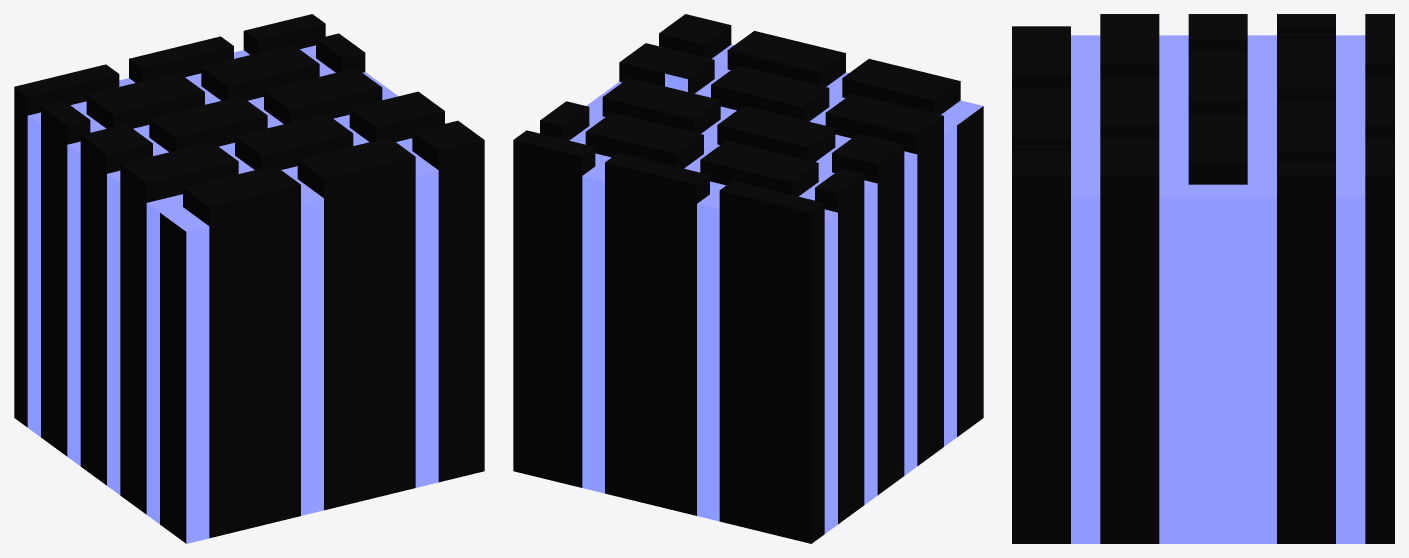
The model's file is BreakableBloc.fbx.
The picture shows the model from 3 angles, left to right: view 1: azimuth 30°, elevation 25°; view 2: azimuth 150°, elevation 25°; view 3: azimuth 270°, elevation 25°; orthographic projection. The views are drawn at different scales.
Visible parts, largest first — view 1: Cube.006; view 2: Cube.006; view 3: Cube.006.
Boxes of the visible parts, x1=… form: Cube.006: x1=14, y1=14, x2=484, y2=543; Cube.006: x1=513, y1=14, x2=983, y2=543; Cube.006: x1=1012, y1=14, x2=1394, y2=543.
Size of the model in its own units: 200 by 212 by 200.
